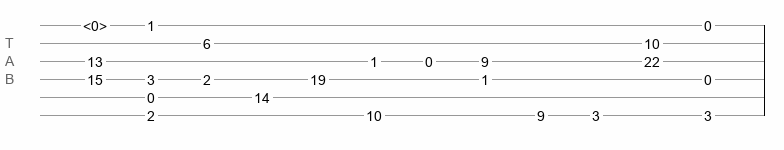0: (147, 90, 155, 100), (425, 54, 433, 64), (704, 18, 712, 28), (704, 72, 712, 82)
1: (147, 18, 155, 28), (370, 54, 378, 64), (481, 72, 489, 82)
10: (366, 108, 382, 118), (644, 36, 660, 46)
13: (87, 54, 103, 64)
14: (254, 90, 270, 100)
15: (87, 72, 103, 82)
19: (310, 72, 326, 82)
2: (147, 108, 155, 118), (203, 72, 211, 82)
22: (644, 54, 660, 64)
3: (147, 72, 155, 82), (592, 108, 600, 118), (704, 108, 712, 118)
6: (203, 36, 211, 46)
9: (481, 54, 489, 64), (537, 108, 545, 118)
harmonic: (83, 18, 107, 28)
